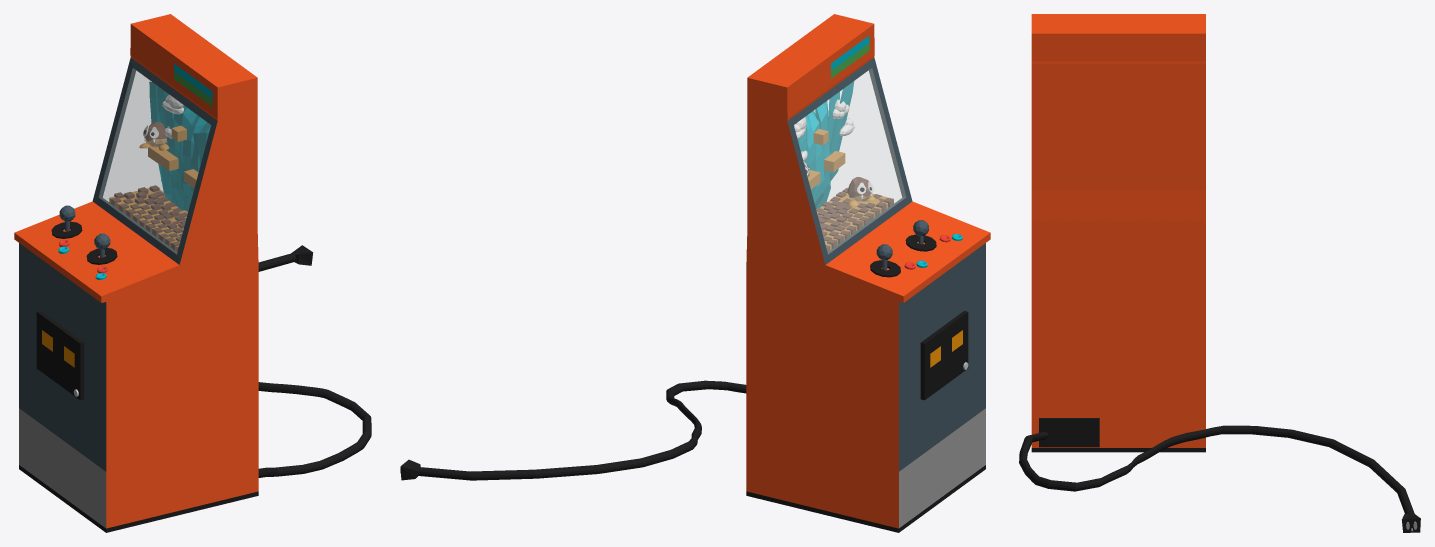
File: arcade_lvl2.glb
The picture shows the model from 3 angles, left to right: view 1: azimuth 30°, elevation 25°; view 2: azimuth 150°, elevation 25°; view 3: azimuth 270°, elevation 25°; orthographic projection.
Visible parts, largest first — view 1: Node; view 2: Node; view 3: Node.
Boxes of the visible parts, x1,y1,x2,y2 form: Node: [14, 14, 371, 532]; Node: [400, 14, 990, 532]; Node: [1019, 14, 1420, 532].
Bounding box in the file's own units: 1.85 × 1.85 × 1.61.
